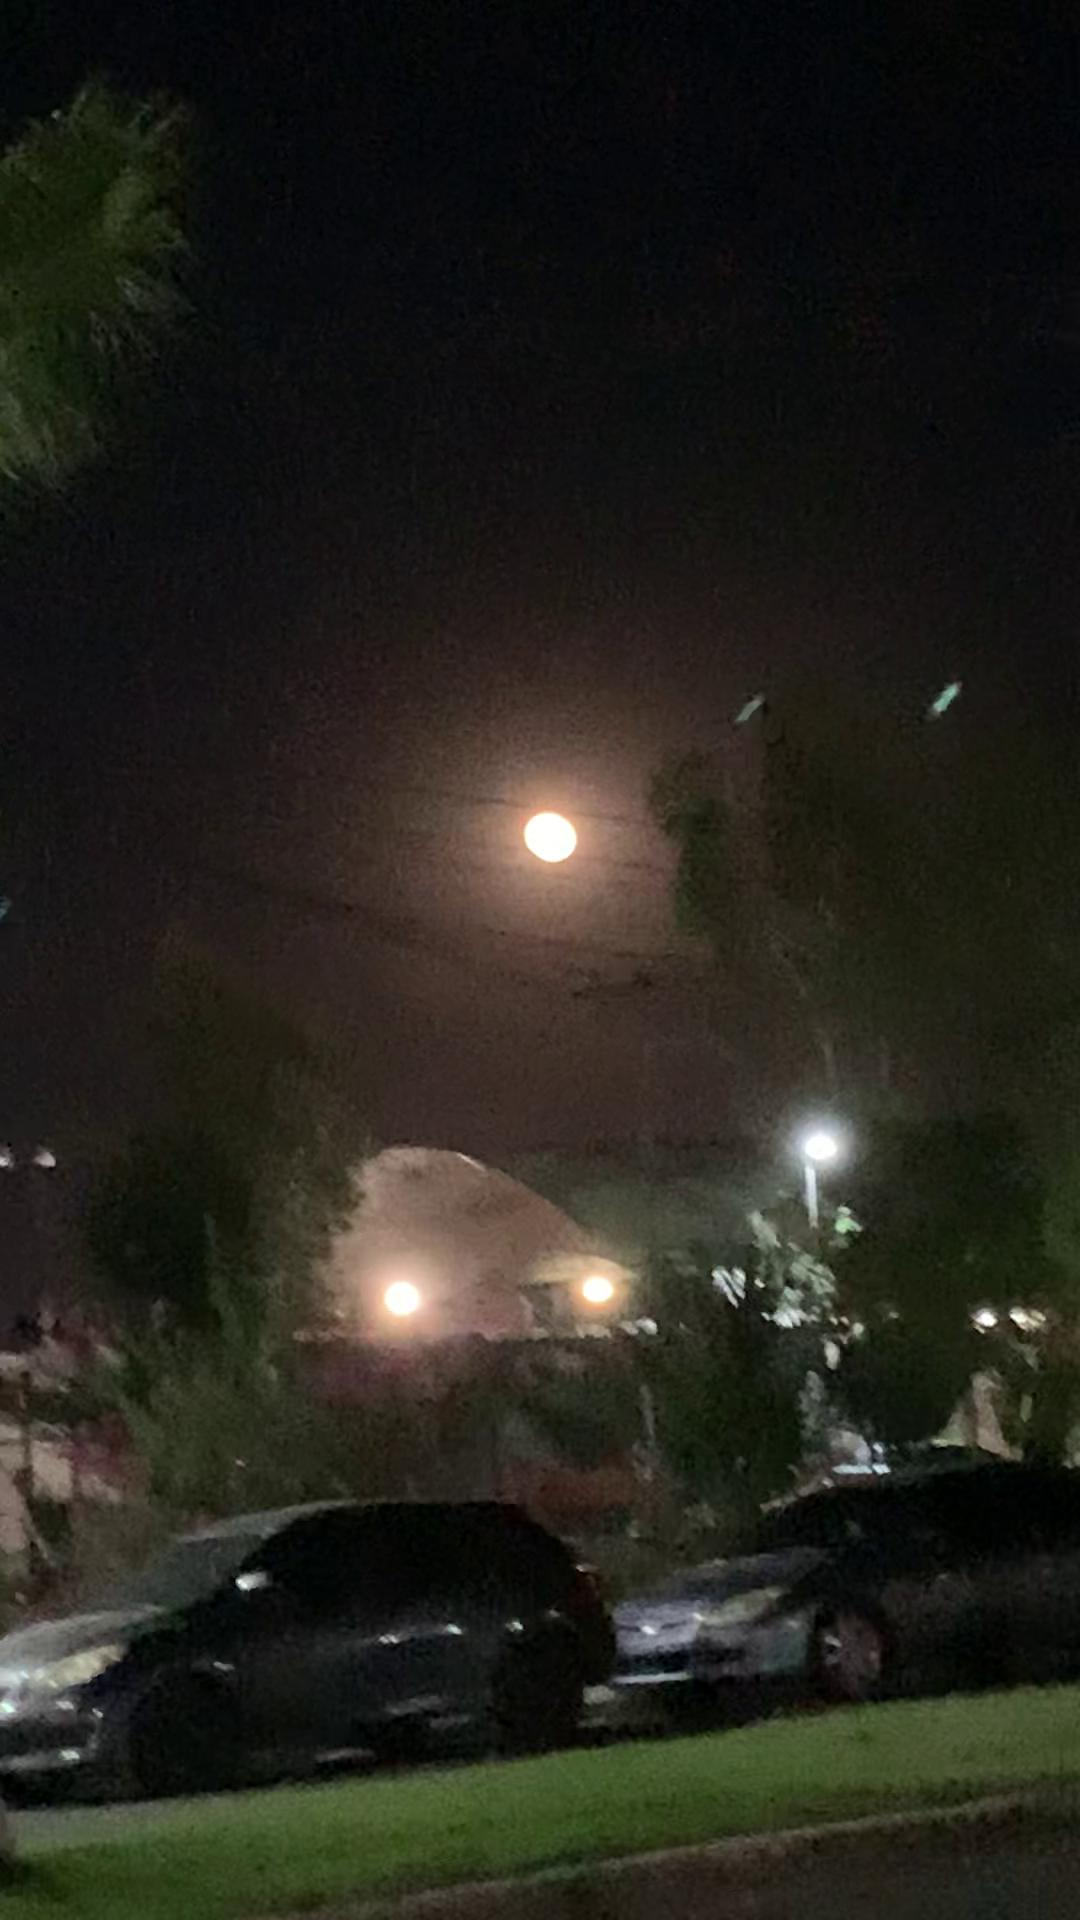moon: (512, 778, 604, 876)
